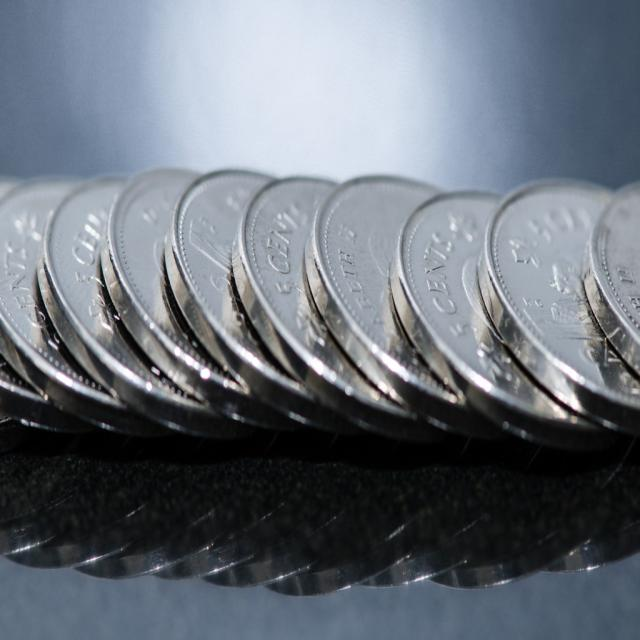Coin: (0, 160, 640, 441)
